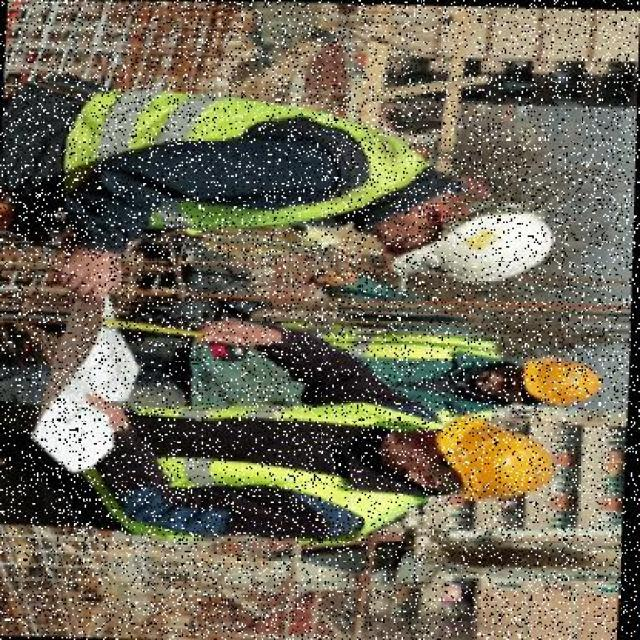helmet: (382, 195, 558, 289), (425, 411, 555, 505), (506, 351, 608, 410)
vest: (66, 92, 422, 245), (103, 385, 419, 545)
